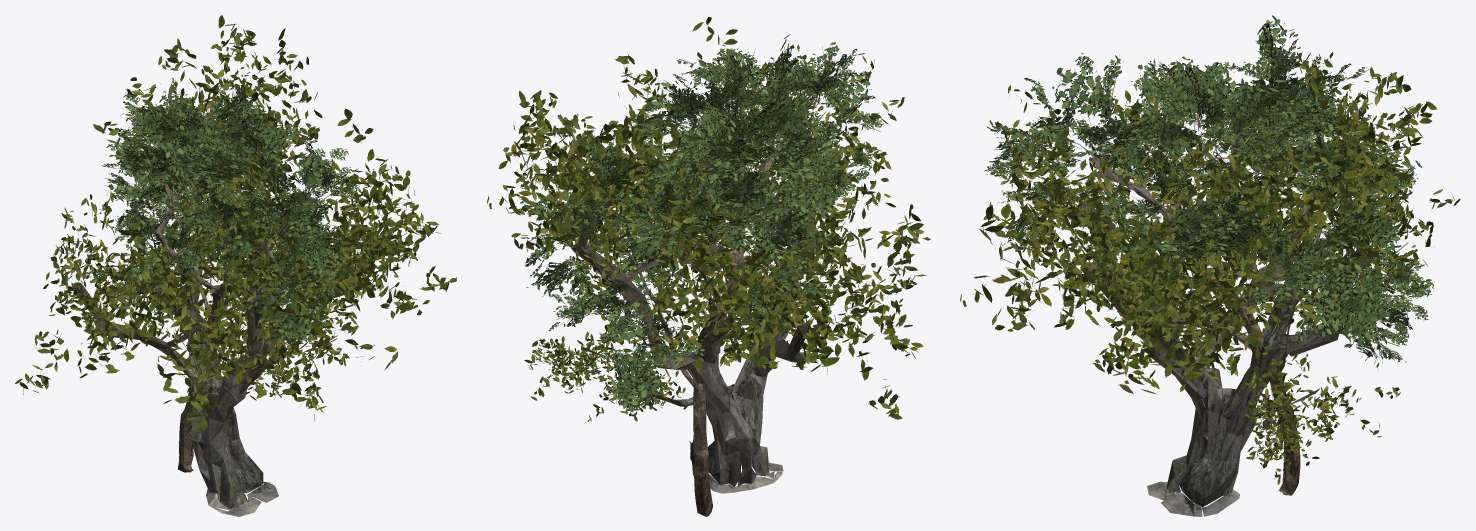
File: trees-real.glb
The picture shows the model from 3 angles, left to right: view 1: azimuth 30°, elevation 25°; view 2: azimuth 150°, elevation 25°; view 3: azimuth 270°, elevation 25°; orthographic projection. The views are drawn at different scales.
Visible parts, largest first — view 1: v0_mid, v1_mid; view 2: v0_mid, v1_mid; view 3: v0_mid, v1_mid.
Boxes of the visible parts, x1=… form: v0_mid: x1=15, y1=15, x2=456, y2=516; v1_mid: x1=81, y1=78, x2=361, y2=472; v0_mid: x1=487, y1=17, x2=930, y2=493; v1_mid: x1=508, y1=34, x2=883, y2=516; v0_mid: x1=960, y1=52, x2=1460, y2=516; v1_mid: x1=984, y1=15, x2=1433, y2=495.
Bounding box in the file's own units: 4.77 × 5.03 × 4.79.
Materials: 6 (6 with a texture image).
